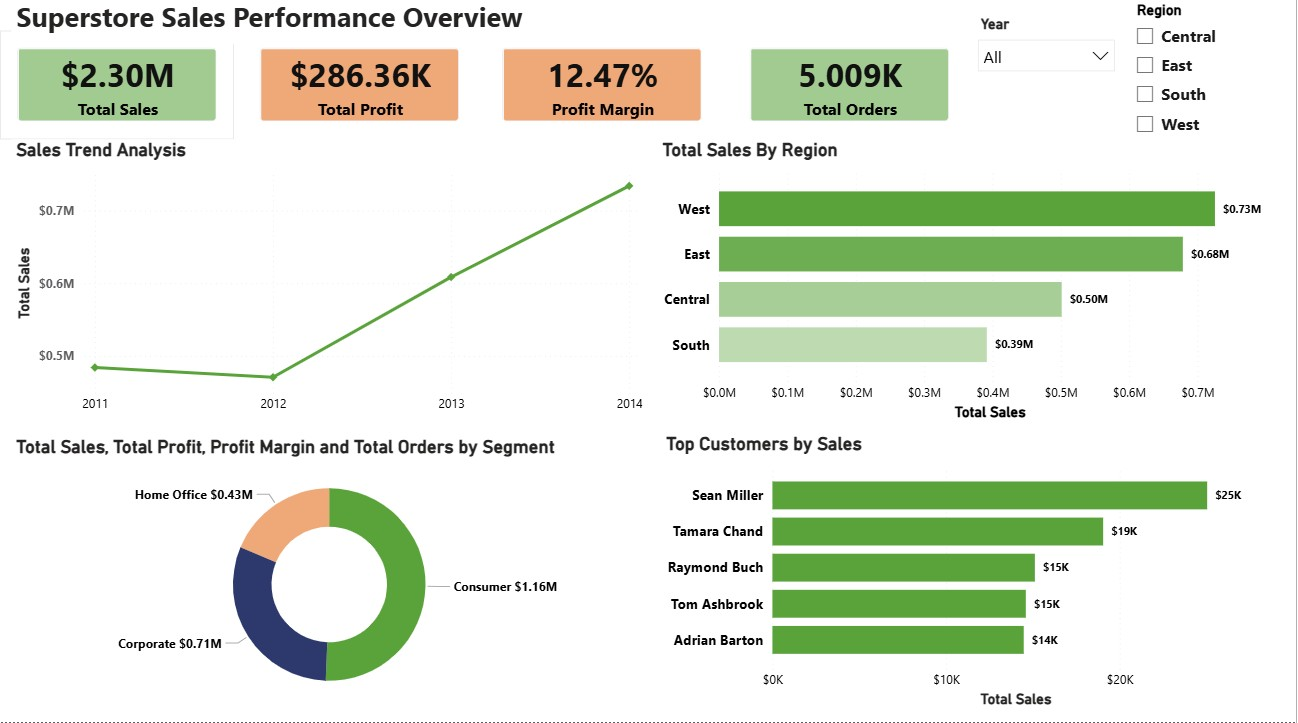

The dashboard page shown, as its layout file describes it:
{"tool":"powerbi","page":{"name":"Sales Overview","canvas":[1280,720],"ordinal":0},"visuals":[{"type":"cardVisual","fields":{"Data":["superstore.Total Sales"]},"box":[0,36.7,231,107.6],"z":0},{"type":"cardVisual","fields":{"Data":["superstore.Total Profit"]},"box":[239.7,36.7,231.1,107.6],"z":1000},{"type":"cardVisual","fields":{"Data":["superstore.Profit Margin %"]},"box":[479.4,36.7,231,107.6],"z":2000},{"type":"cardVisual","fields":{"Data":["Count(superstore.Order ID)"]},"box":[723.9,36.7,231.1,107.6],"z":3000},{"type":"lineChart","title":"Sales Trend Analysis","fields":{"Y":["superstore.Total Sales"],"Category":["Date Table.Year Hierarchy.Year","Date Table.Year Hierarchy.Quarter","Date Table.Year Hierarchy.Month Name"]},"box":[11,144.3,628.5,280],"z":4000},{"type":"clusteredBarChart","title":"Total Sales By Region","fields":{"Y":["superstore.Total Sales"],"Category":["superstore.Region Hierarchy.Region","superstore.Region Hierarchy.State","superstore.Region Hierarchy.City"]},"box":[649.3,144.3,618.8,282.5],"z":5000},{"type":"donutChart","fields":{"Category":["Segment Table.Segment"],"Y":["superstore.Total Sales"]},"box":[11,436.6,628.5,273.9],"z":6000},{"type":"slicer","fields":{"Values":["Date Table.Year"]},"box":[955,17.1,155.3,67.3],"z":7000},{"type":"slicer","fields":{"Values":["superstore.Region"]},"box":[1110.3,3.7,157.7,150.4],"z":8000},{"type":"textbox","box":[11,0,944,50.1],"z":9000},{"type":"clusteredBarChart","title":"Top Customers by Sales ","fields":{"Category":["superstore.Customer Name"],"Y":["Sum(superstore.Sales)"]},"box":[653,434.1,610.2,276.4],"z":10000}]}

Visuals, with their boxes in screenshot pixels (x1, y1, x2, y2), scaled from the page's 1280x720 canvas onto the 1298x723 screenshot:
cardVisual - superstore.Total Sales: <bbox>0, 37, 234, 145</bbox>
cardVisual - superstore.Total Profit: <bbox>243, 37, 477, 145</bbox>
cardVisual - superstore.Profit Margin %: <bbox>486, 37, 720, 145</bbox>
cardVisual - Count(superstore.Order ID): <bbox>734, 37, 968, 145</bbox>
"Sales Trend Analysis" lineChart: <bbox>11, 145, 648, 426</bbox>
"Total Sales By Region" clusteredBarChart: <bbox>658, 145, 1286, 429</bbox>
donutChart - Segment Table.Segment x superstore.Total Sales: <bbox>11, 438, 648, 713</bbox>
slicer - Date Table.Year: <bbox>968, 17, 1126, 85</bbox>
slicer - superstore.Region: <bbox>1126, 4, 1286, 155</bbox>
textbox: <bbox>11, 0, 968, 50</bbox>
"Top Customers by Sales " clusteredBarChart: <bbox>662, 436, 1281, 713</bbox>
